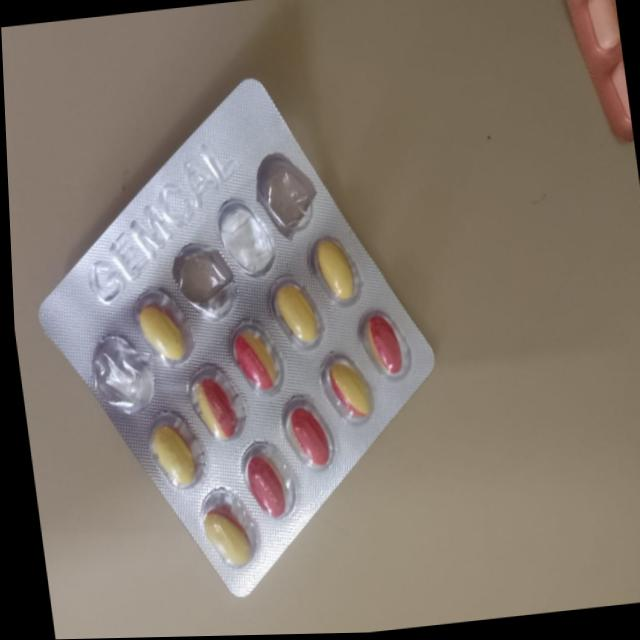medicine: (13, 50, 452, 625)
